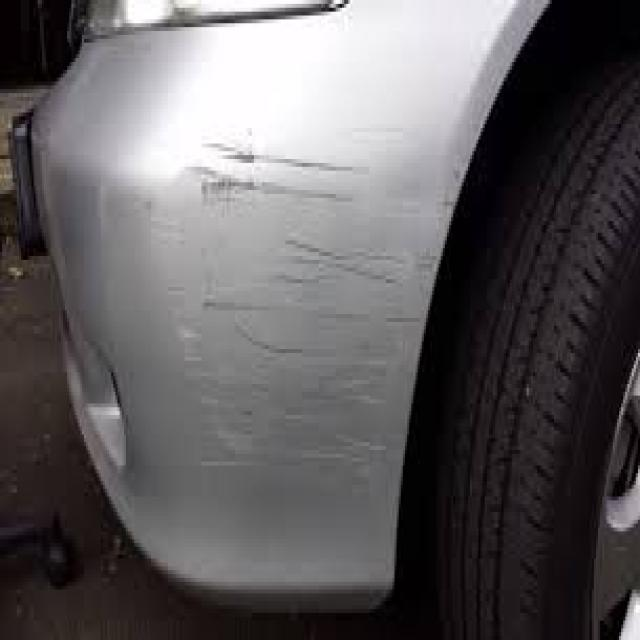Scratch: (178, 144, 453, 485)
